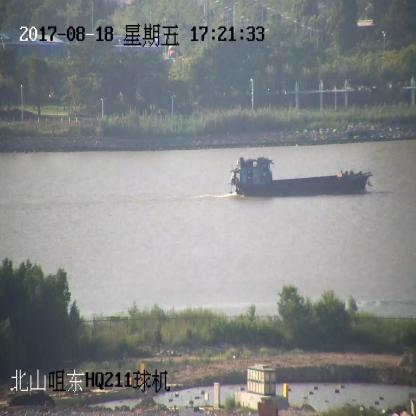Bulk Carrier: (229, 160, 372, 197)
